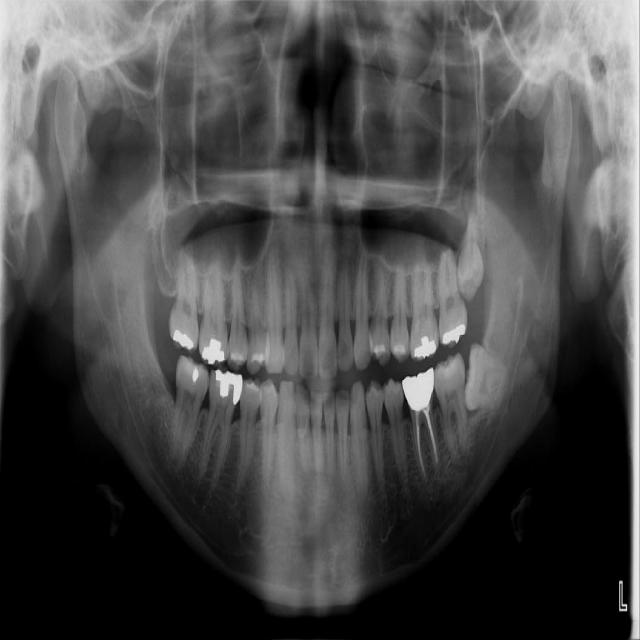Crown: (402, 367, 434, 417)
Filling: (212, 370, 242, 405), (199, 336, 225, 364), (413, 335, 437, 358), (170, 328, 194, 350), (442, 323, 465, 344), (191, 367, 202, 384)
Root Canal Treatment: (415, 416, 427, 481), (428, 417, 438, 464)
impacted tooth: (466, 345, 510, 411), (457, 209, 486, 300)
